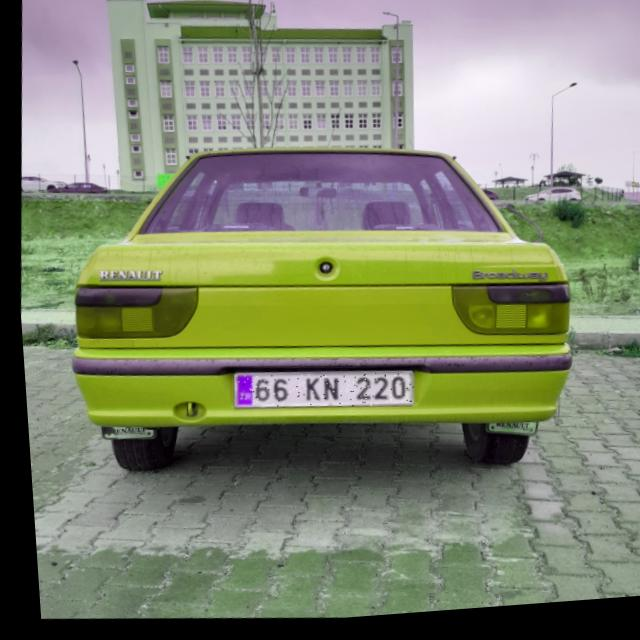license_plate: (227, 366, 410, 421)
